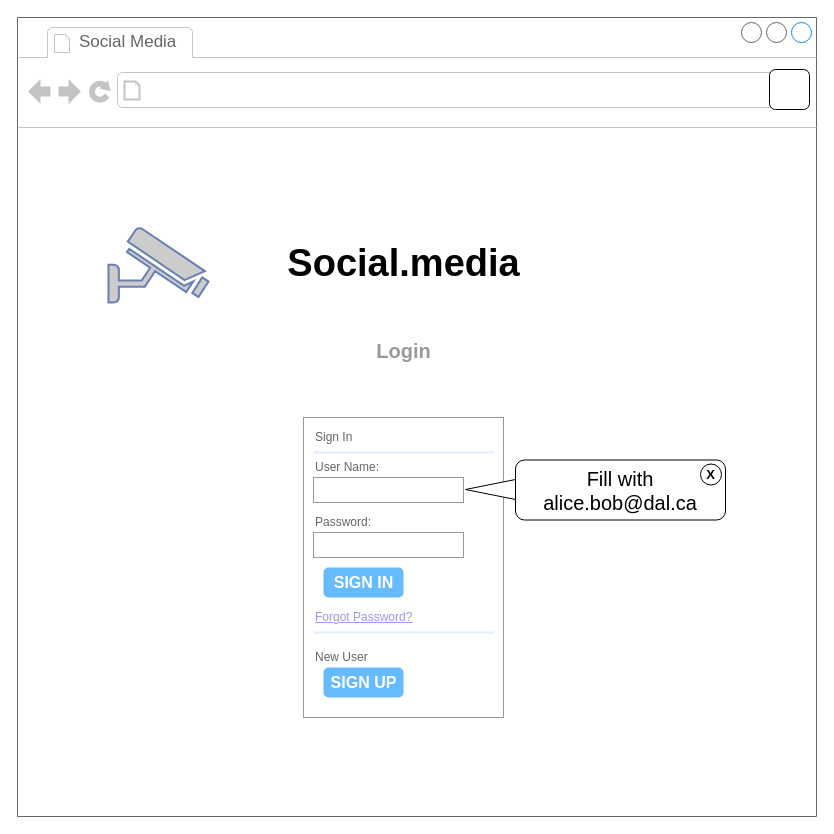
Image size: 834x834. Some labels were removed from this diagram. Here are the shapes that lost their labels. From the top down, the box of each, then its label:
(146, 76, 398, 104): https://social.media
(768, 68, 810, 110): PW
